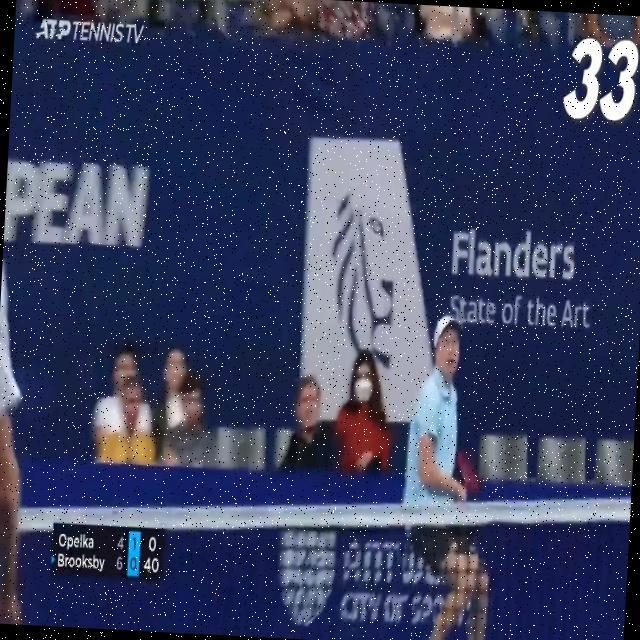player: (394, 311, 505, 640)
